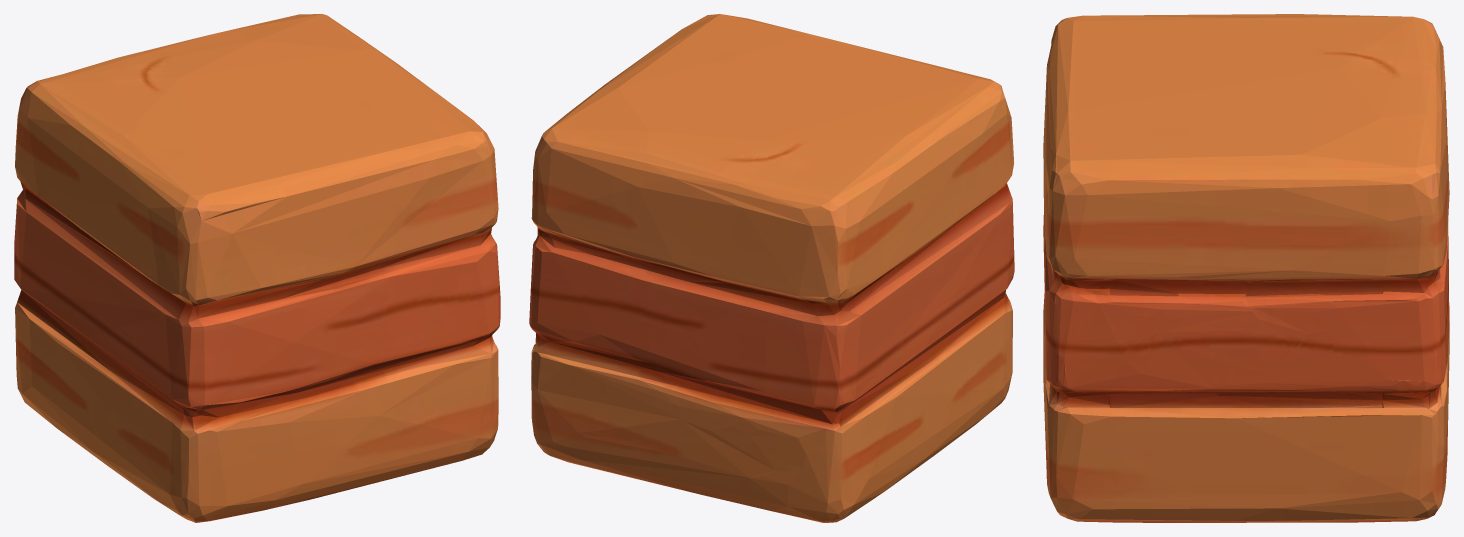
File: wall_canyon.glb
3 views of the same model, side by side, from view 1: azimuth 30°, elevation 25°; view 2: azimuth 150°, elevation 25°; view 3: azimuth 270°, elevation 25° (orthographic). The views are drawn at different scales.
Parts seen in each view (by area): view 1: tmp72jutd4k.ply; view 2: tmp72jutd4k.ply; view 3: tmp72jutd4k.ply.
Boxes of the visible parts, bbox=[...] form: tmp72jutd4k.ply: bbox=[14, 14, 500, 522]; tmp72jutd4k.ply: bbox=[529, 14, 1014, 522]; tmp72jutd4k.ply: bbox=[1043, 14, 1449, 522].
Bounding box in the file's own units: 1.99 × 1.99 × 1.99.
Materials: 1 (1 with a texture image).
